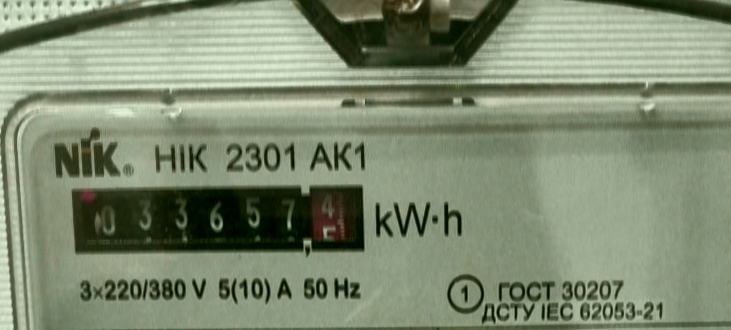0: (96, 201, 117, 238)
3: (134, 197, 153, 232), (170, 195, 188, 231)
4: (316, 190, 336, 220)
5: (240, 193, 262, 229)
6: (204, 198, 224, 233)
7: (277, 195, 295, 231)
screen: (57, 178, 371, 261)
